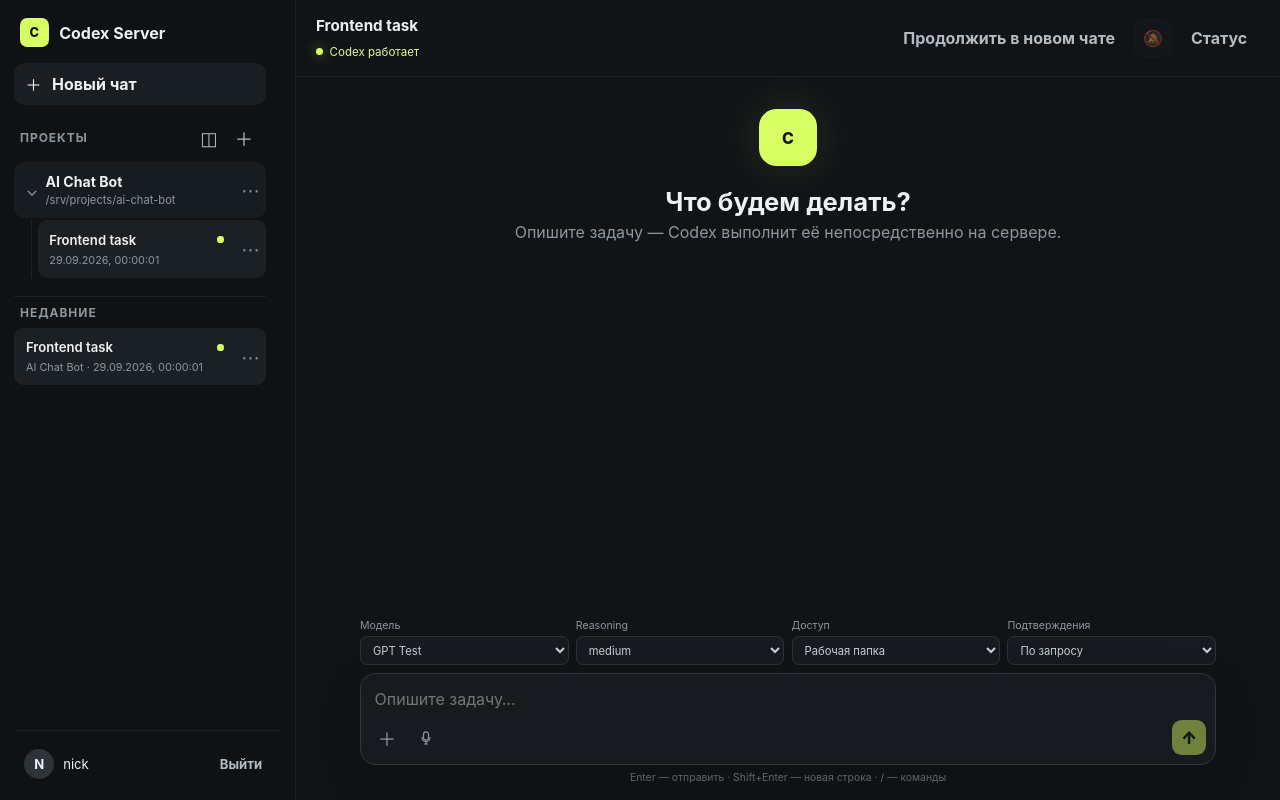
App › does not let an older reconciliation response override a newer active turn event
Expected: the text "Codex работает" is shown, [316, 45, 419, 59]
Type "Уточнение после нового события" into the text box named "Сообщение Codex" at (788, 697), box [361, 674, 1215, 720]
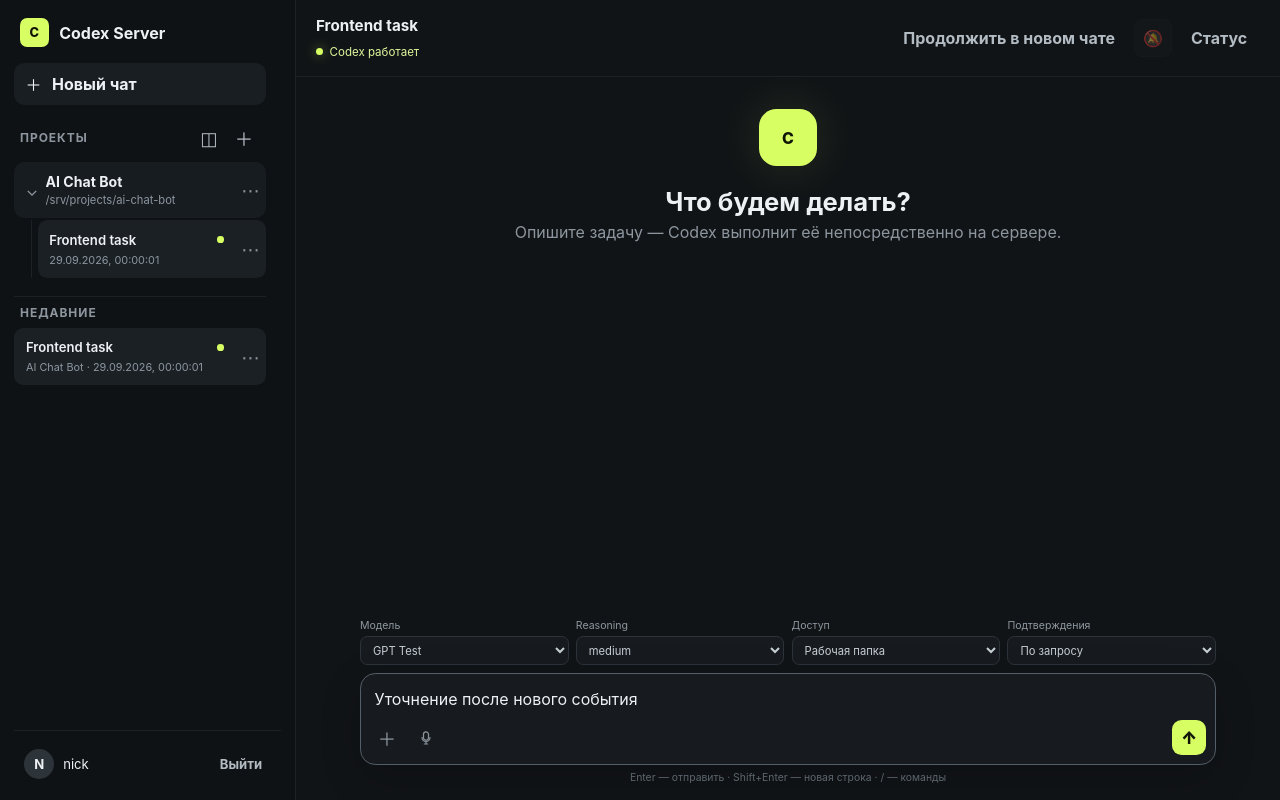
Click the button named "Отправить сообщение" at (1189, 738), box [1172, 720, 1206, 755]
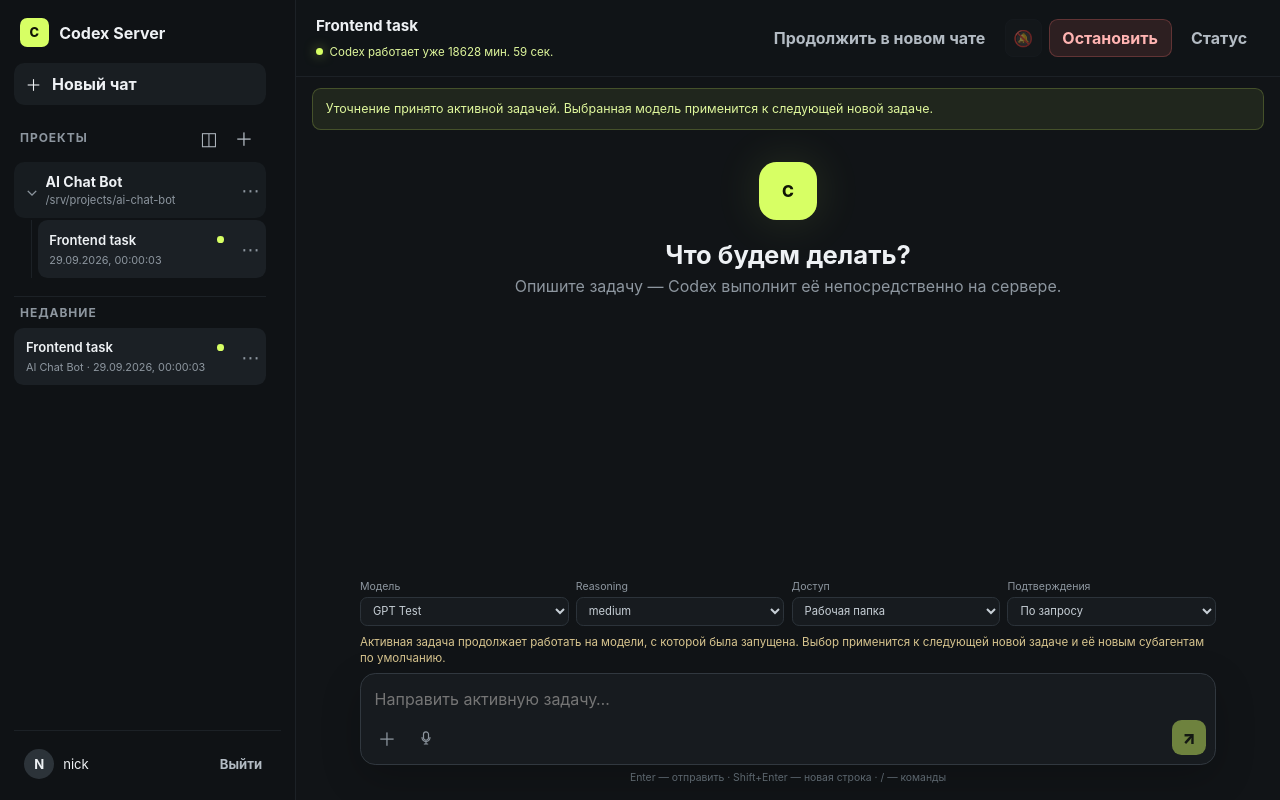
Result: the text box named "Уточнение для активной задачи" is shown at [361, 674, 1215, 720]
